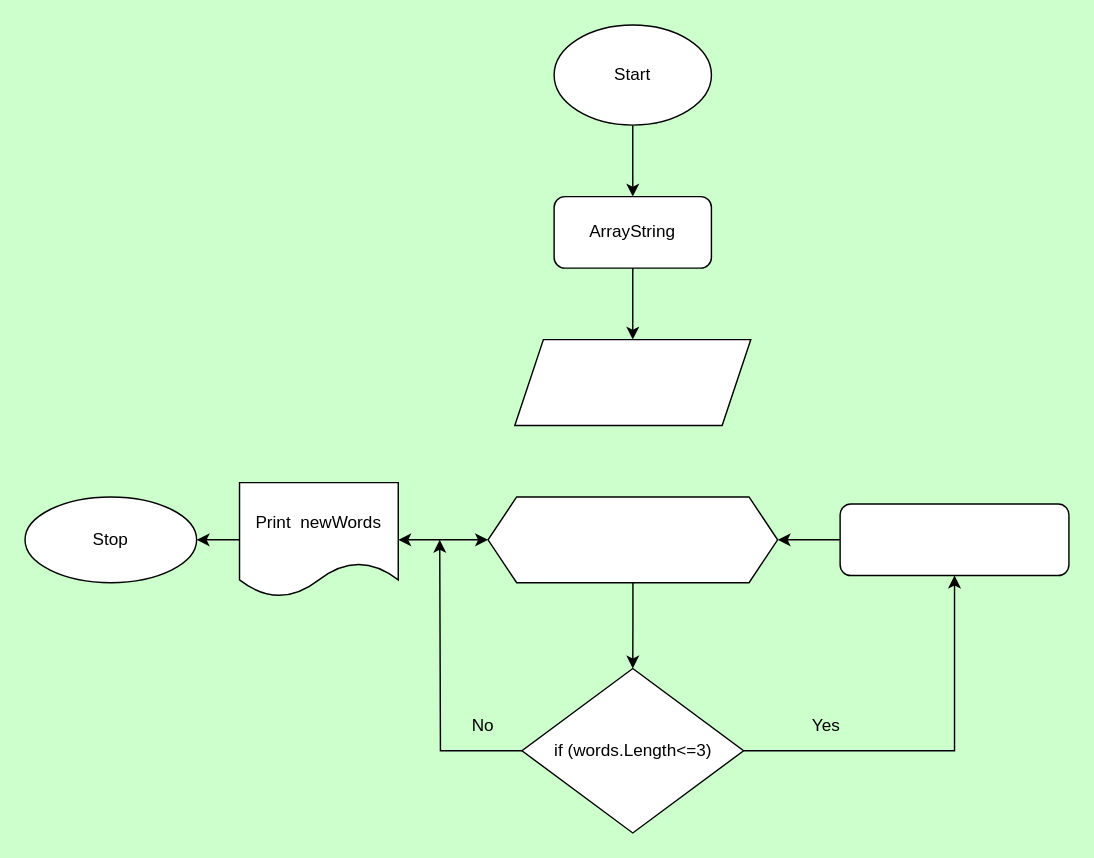
The diagram is 1094 pixels wide and 858 high, and some of its shapes have lost their labels. The box of each missing label's shape, as (x1, y1, x2, y2) in pixels:
for ( I=0; I < words.Length; I++): (487, 495, 778, 583)
newWords[count] = words[I] count++: (839, 503, 1069, 576)
string[] words string[] newWords int count = 0: (513, 338, 751, 425)
